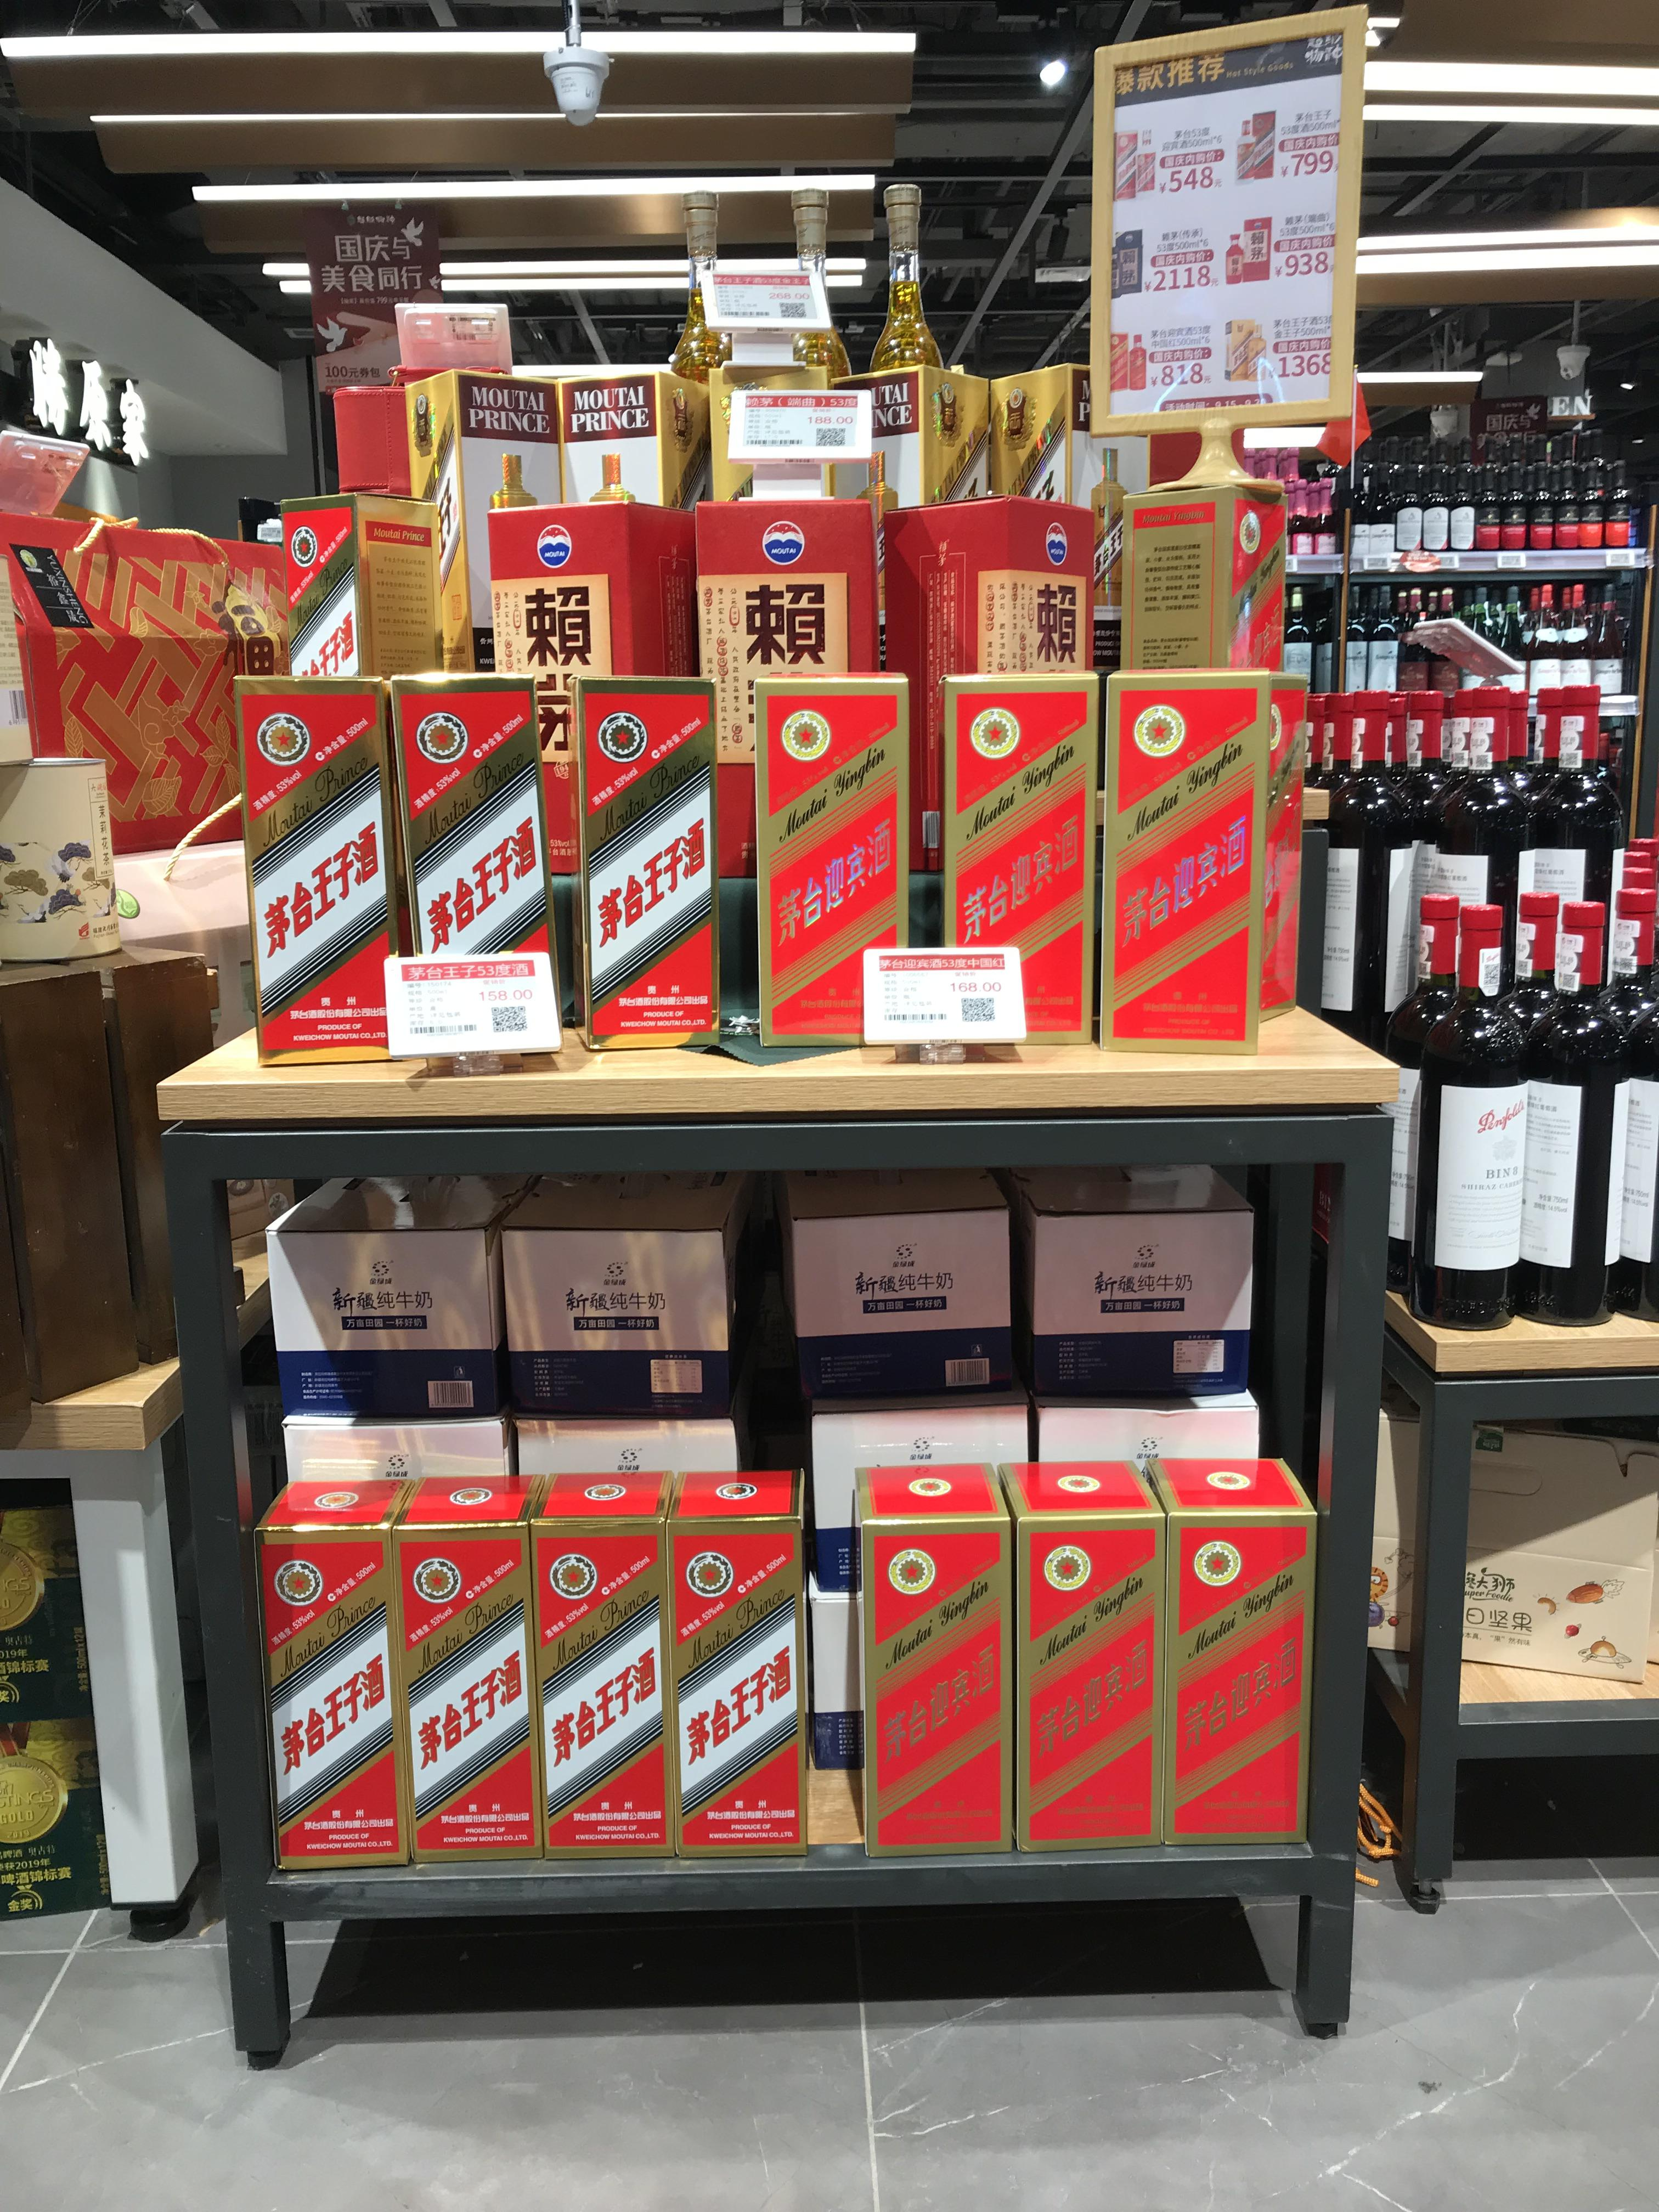bag: (242, 1454, 450, 1855), (394, 1472, 558, 1843), (666, 1468, 823, 1844), (528, 1480, 688, 1843), (249, 691, 397, 1061)
bottle: (1415, 925, 1535, 1325), (1497, 941, 1612, 1331), (1565, 942, 1657, 1303), (854, 183, 943, 509), (56, 361, 139, 582), (1511, 707, 1582, 944), (1535, 702, 1601, 934), (1553, 573, 1595, 691), (1392, 434, 1431, 563), (1534, 575, 1572, 688), (1431, 441, 1467, 556)
box: (1134, 1470, 1324, 1841), (847, 1442, 1023, 1834), (390, 679, 572, 1057), (1006, 1470, 1176, 1836), (936, 672, 1098, 1047), (756, 676, 917, 1054), (1107, 664, 1258, 1055), (565, 674, 721, 1050), (488, 505, 699, 679), (687, 498, 884, 678), (458, 357, 659, 507), (662, 188, 748, 507), (777, 188, 861, 507)
bucket: (488, 1217, 737, 1423)
others: (1103, 12, 1354, 268), (1006, 1174, 1262, 1388), (270, 1212, 518, 1428), (770, 1188, 1023, 1381), (887, 502, 1091, 676), (1117, 482, 1272, 693), (298, 512, 457, 686), (2, 752, 112, 954)
